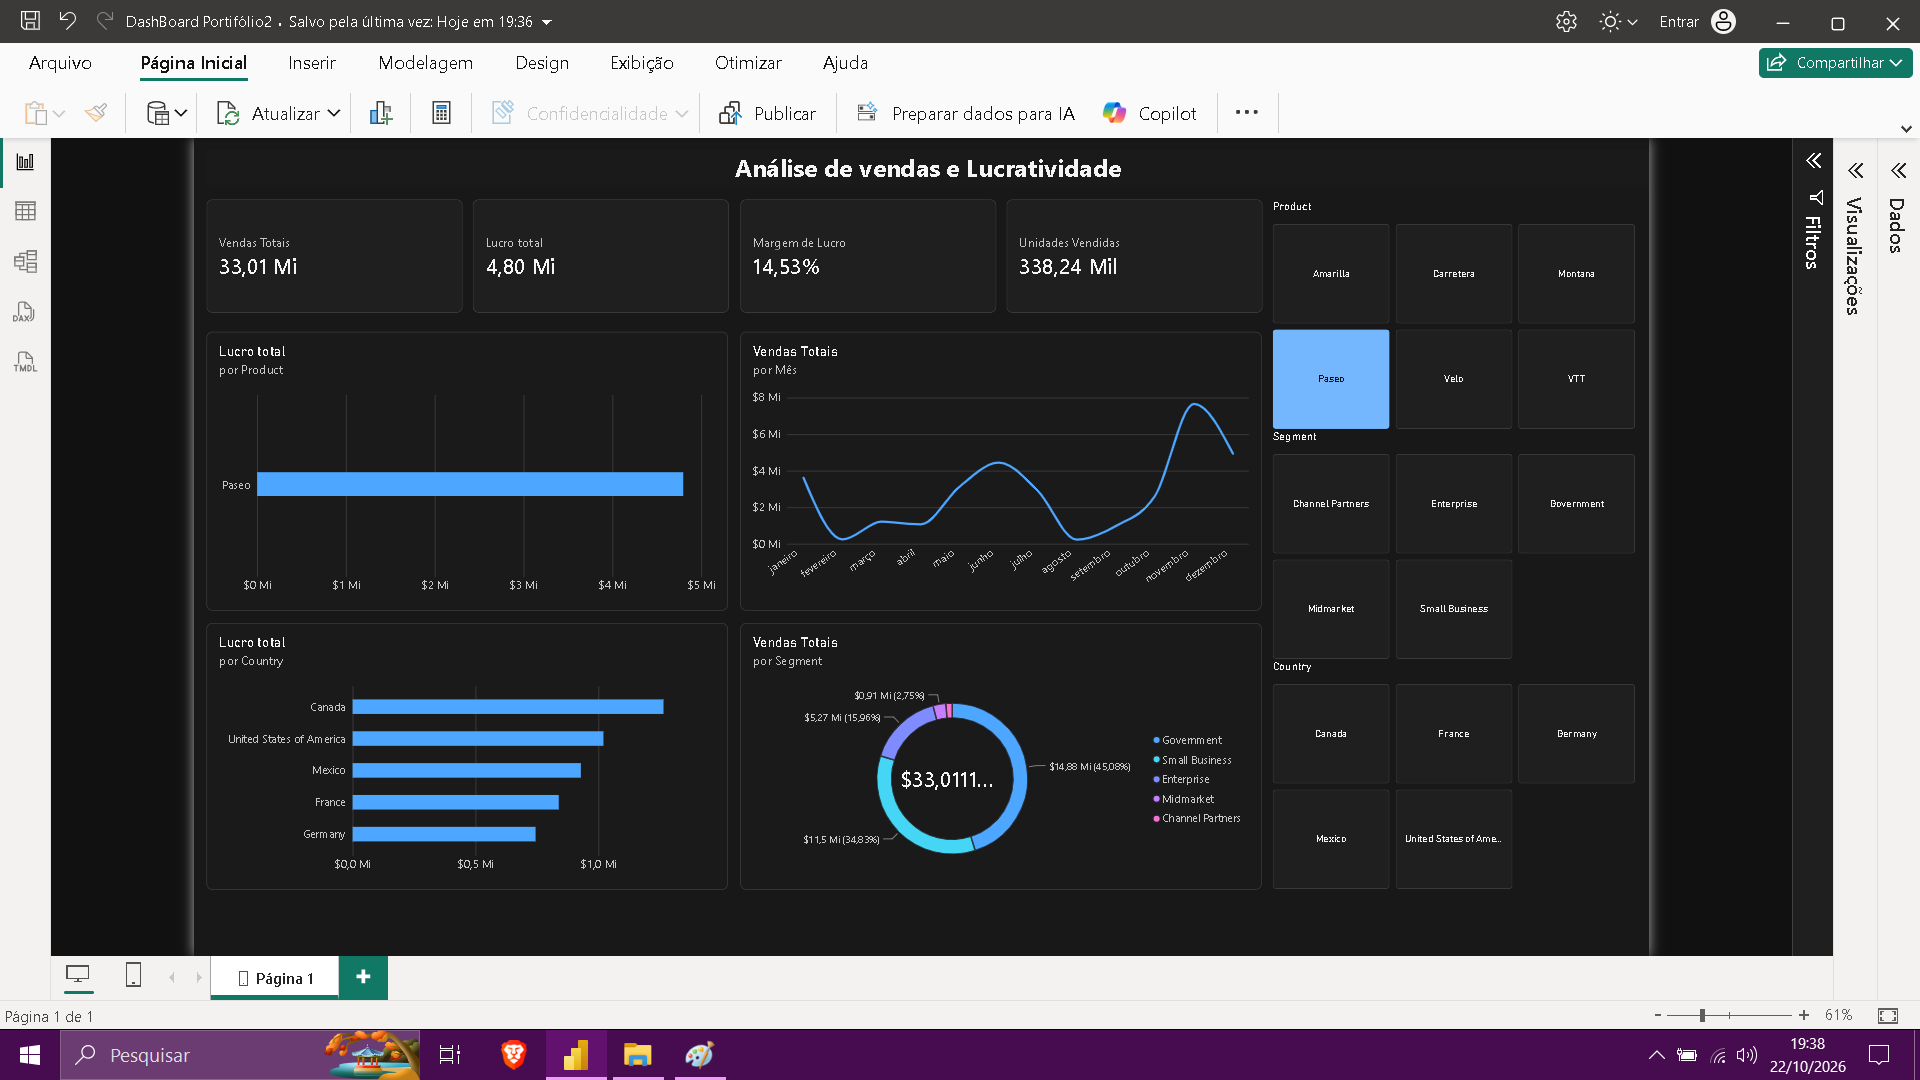

The page's visual inventory and layout, read from the dashboard file:
{"tool":"powerbi","page":{"name":"Página 1","canvas":[1920,1080],"ordinal":0},"visuals":[{"type":"textbox","box":[16,16,1904,48],"z":0},{"type":"cardVisual","fields":{"Data":["financials.Vendas Totais"]},"box":[16,80,338.5,150.3],"z":1000},{"type":"cardVisual","fields":{"Data":["financials.Lucro total"]},"box":[368,80,338.5,150.3],"z":2000},{"type":"cardVisual","fields":{"Data":["financials.Margem de Lucro"]},"box":[720,80,338.5,150.3],"z":3000},{"type":"cardVisual","fields":{"Data":["financials.Unidades Vendidas"]},"box":[1072,80,338.5,150.3],"z":4000},{"type":"lineChart","fields":{"Category":["financials.Date.Variação.Hierarquia de datas.Ano","financials.Date.Variação.Hierarquia de datas.Trimestre","financials.Date.Variação.Hierarquia de datas.Mês","financials.Date.Variação.Hierarquia de datas.Dia"],"Y":["financials.Vendas Totais"]},"box":[720,256,688,368],"z":5000},{"type":"clusteredBarChart","fields":{"Category":["financials.Product"],"Y":["financials.Lucro total"]},"box":[16,256,688,368],"z":6000},{"type":"donutChart","fields":{"Category":["financials.Segment"],"Y":["financials.Vendas Totais"]},"box":[720,640,688,352],"z":7000},{"type":"clusteredBarChart","fields":{"Category":["financials.Country"],"Y":["financials.Lucro total"]},"box":[16,640,688,352],"z":8000},{"type":"advancedSlicerVisual","fields":{"Values":["financials.Country"]},"box":[1424,688,480,304],"z":9000},{"type":"advancedSlicerVisual","fields":{"Values":["financials.Segment"]},"box":[1424,384,480,304],"z":10000},{"type":"advancedSlicerVisual","fields":{"Values":["financials.Product"]},"box":[1424,80,480,304],"z":11000}]}

Visuals, with their boxes on the page's 1920x1080 design canvas (x1, y1, x2, y2). These are canvas units, not pixel positions in the 1920x1080 screenshot, which may show the page scaled, cropped or inside an application window:
textbox: bbox=(16, 16, 1920, 64)
cardVisual - financials.Vendas Totais: bbox=(16, 80, 354, 230)
cardVisual - financials.Lucro total: bbox=(368, 80, 706, 230)
cardVisual - financials.Margem de Lucro: bbox=(720, 80, 1058, 230)
cardVisual - financials.Unidades Vendidas: bbox=(1072, 80, 1410, 230)
lineChart - financials.Date.Variação.Hierarquia de datas.Ano x financials.Date.Variação.Hierarquia de datas.Trimestre: bbox=(720, 256, 1408, 624)
clusteredBarChart - financials.Product x financials.Lucro total: bbox=(16, 256, 704, 624)
donutChart - financials.Segment x financials.Vendas Totais: bbox=(720, 640, 1408, 992)
clusteredBarChart - financials.Country x financials.Lucro total: bbox=(16, 640, 704, 992)
advancedSlicerVisual - financials.Country: bbox=(1424, 688, 1904, 992)
advancedSlicerVisual - financials.Segment: bbox=(1424, 384, 1904, 688)
advancedSlicerVisual - financials.Product: bbox=(1424, 80, 1904, 384)
